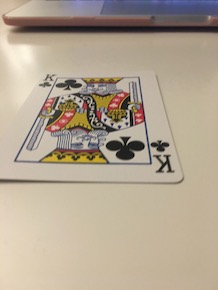KingOfClubs: (1, 69, 191, 190)
